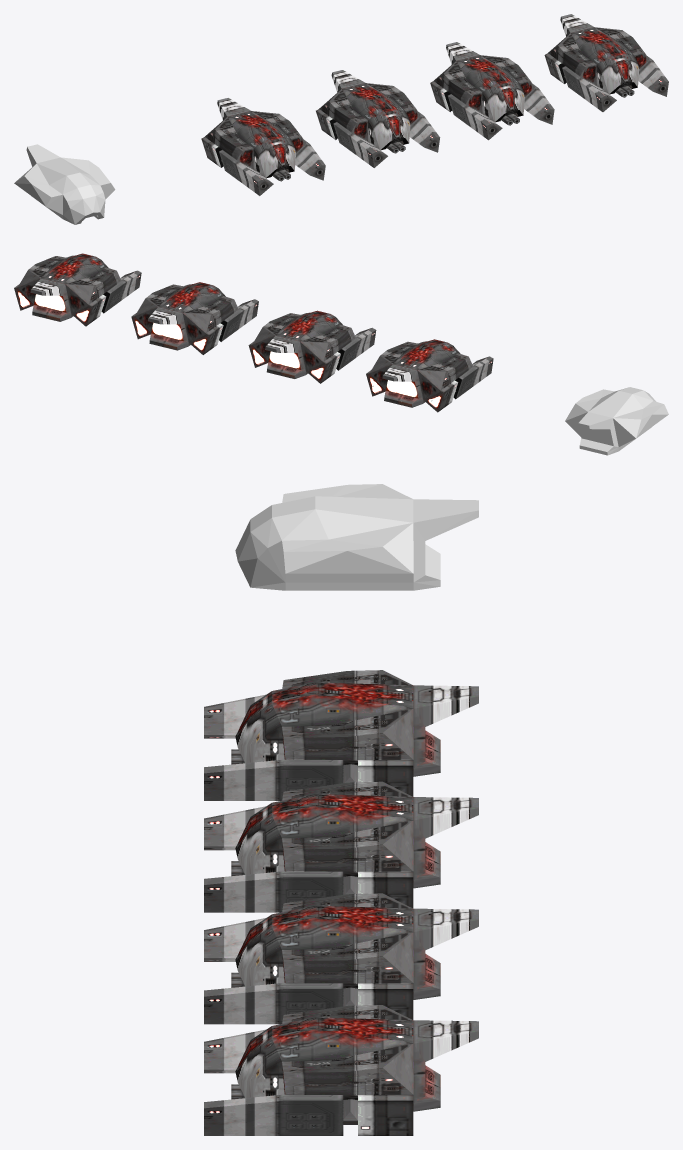
Rendered from bst_acolyte.DAE.
3 views of the same model, one above another, from view 1: azimuth 30°, elevation 25°; view 2: azimuth 150°, elevation 25°; view 3: azimuth 270°, elevation 25° (orthographic). The views are drawn at different scales.
Visible parts, largest first — view 1: COL[Root], MULT[root_mesh]_LOD[1], MULT[root_mesh]_LOD[3], MULT[root_mesh]_LOD[2], MULT[root_mesh]_LOD[0], MULT[thrust1]_LOD[3], MULT[thrust1]_LOD[0], MULT[thrust1]_LOD[2], MULT[thrust1]_LOD[1], MULT[thrust2]_LOD[0], MULT[thrust2]_LOD[2], MULT[thrust2]_LOD[1] (+1 smaller); view 2: COL[Root], MULT[root_mesh]_LOD[0], MULT[root_mesh]_LOD[2], MULT[root_mesh]_LOD[3], MULT[root_mesh]_LOD[1], MULT[thrust1]_LOD[1], MULT[thrust1]_LOD[0], MULT[thrust1]_LOD[3], MULT[thrust1]_LOD[2]; view 3: COL[Root], MULT[root_mesh]_LOD[2], MULT[root_mesh]_LOD[1], MULT[root_mesh]_LOD[3], MULT[root_mesh]_LOD[0], MULT[thrust2]_LOD[3], MULT[thrust2]_LOD[1], MULT[thrust2]_LOD[2], MULT[thrust2]_LOD[0], MULT[thrust1]_LOD[1], MULT[thrust1]_LOD[3], MULT[thrust1]_LOD[0] (+1 smaller).
Part boxes in pixels (left/top/right/bottom): COL[Root]: left=14, top=144, right=115, bottom=224; MULT[root_mesh]_LOD[1]: left=319, top=70, right=420, bottom=150; MULT[root_mesh]_LOD[3]: left=548, top=14, right=648, bottom=94; MULT[root_mesh]_LOD[2]: left=434, top=42, right=534, bottom=122; MULT[root_mesh]_LOD[0]: left=205, top=98, right=305, bottom=178; MULT[thrust1]_LOD[3]: left=544, top=53, right=616, bottom=111; MULT[thrust1]_LOD[0]: left=201, top=137, right=273, bottom=195; MULT[thrust1]_LOD[2]: left=430, top=81, right=502, bottom=140; MULT[thrust1]_LOD[1]: left=316, top=109, right=387, bottom=167; MULT[thrust2]_LOD[0]: left=295, top=140, right=325, bottom=180; MULT[thrust2]_LOD[2]: left=524, top=84, right=554, bottom=124; MULT[thrust2]_LOD[1]: left=409, top=112, right=440, bottom=152; COL[Root]: left=565, top=387, right=668, bottom=455; MULT[root_mesh]_LOD[0]: left=369, top=339, right=473, bottom=407; MULT[root_mesh]_LOD[2]: left=135, top=282, right=238, bottom=350; MULT[root_mesh]_LOD[3]: left=17, top=253, right=121, bottom=321; MULT[root_mesh]_LOD[1]: left=252, top=310, right=355, bottom=378; MULT[thrust1]_LOD[1]: left=306, top=327, right=376, bottom=383; MULT[thrust1]_LOD[0]: left=423, top=356, right=493, bottom=412; MULT[thrust1]_LOD[3]: left=71, top=270, right=141, bottom=326; MULT[thrust1]_LOD[2]: left=189, top=299, right=258, bottom=354; COL[Root]: left=235, top=484, right=478, bottom=590; MULT[root_mesh]_LOD[2]: left=235, top=893, right=478, bottom=999; MULT[root_mesh]_LOD[1]: left=235, top=781, right=478, bottom=888; MULT[root_mesh]_LOD[3]: left=235, top=1005, right=478, bottom=1111; MULT[root_mesh]_LOD[0]: left=235, top=670, right=478, bottom=776; MULT[thrust2]_LOD[3]: left=204, top=1094, right=413, bottom=1135; MULT[thrust2]_LOD[1]: left=204, top=871, right=413, bottom=912; MULT[thrust2]_LOD[2]: left=204, top=983, right=413, bottom=1024; MULT[thrust2]_LOD[0]: left=204, top=759, right=413, bottom=800; MULT[thrust1]_LOD[1]: left=204, top=806, right=265, bottom=850; MULT[thrust1]_LOD[3]: left=204, top=1029, right=265, bottom=1073; MULT[thrust1]_LOD[0]: left=204, top=694, right=265, bottom=738.
Bounding box in the file's own units: 148 × 9.46 × 29.06.
15 materials, 15 textured.
